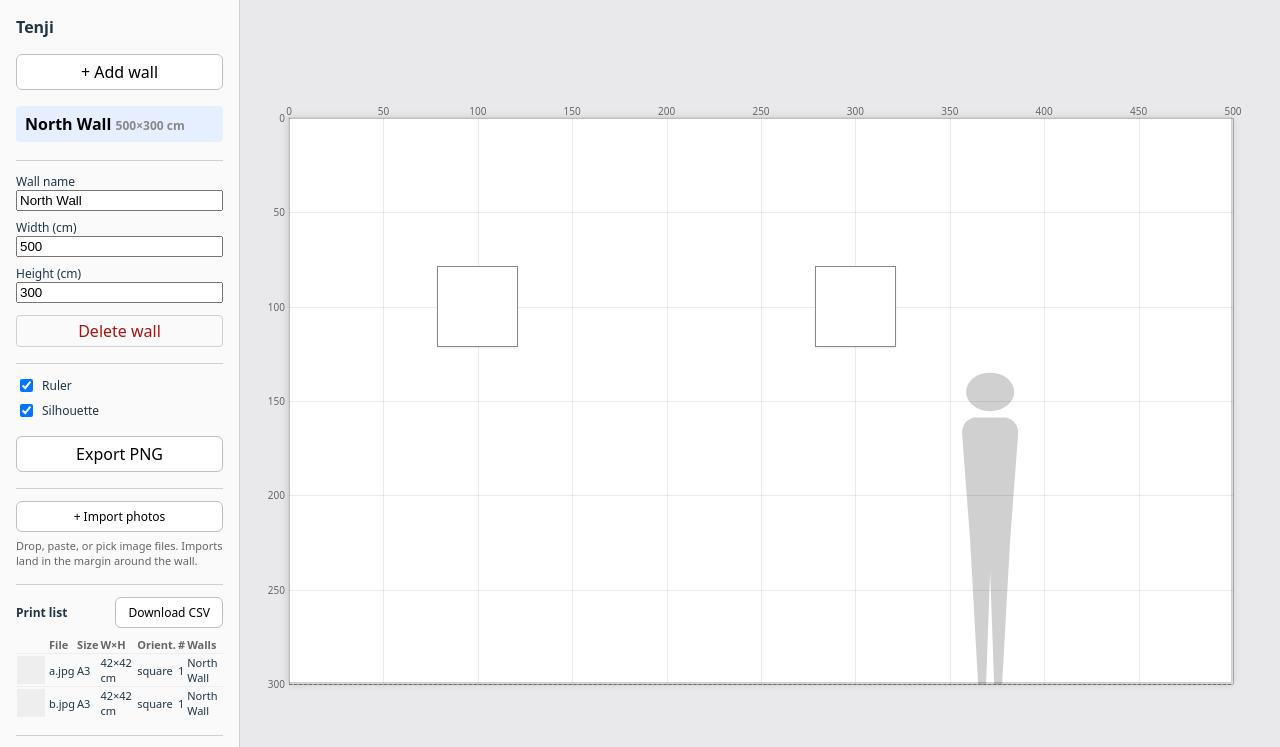
Test: App › shift-clicks add to selection and show the group inspector with no handles
This screenshot has width=1280, height=747.
// Click first → exactly one selected → full inspector + handles.
Press the mouse on the element with test id "placement-pl-a" at (478, 307), box [438, 267, 517, 346]
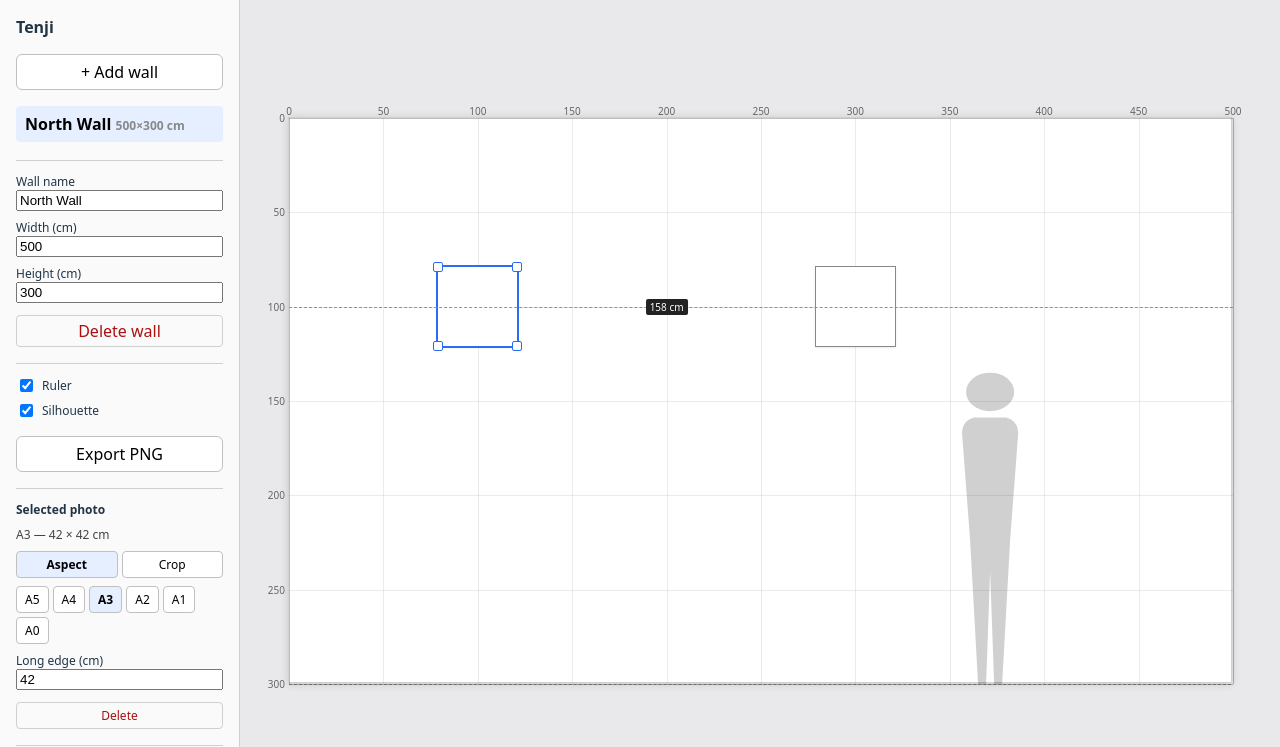
Result: the element with test id "placement-inspector" is shown at [16, 488, 223, 729]
// Shift-click second → 2 selected → group inspector, no handles on either.
Press the mouse on the element with test id "placement-pl-b" at (855, 307), box [816, 267, 895, 346]
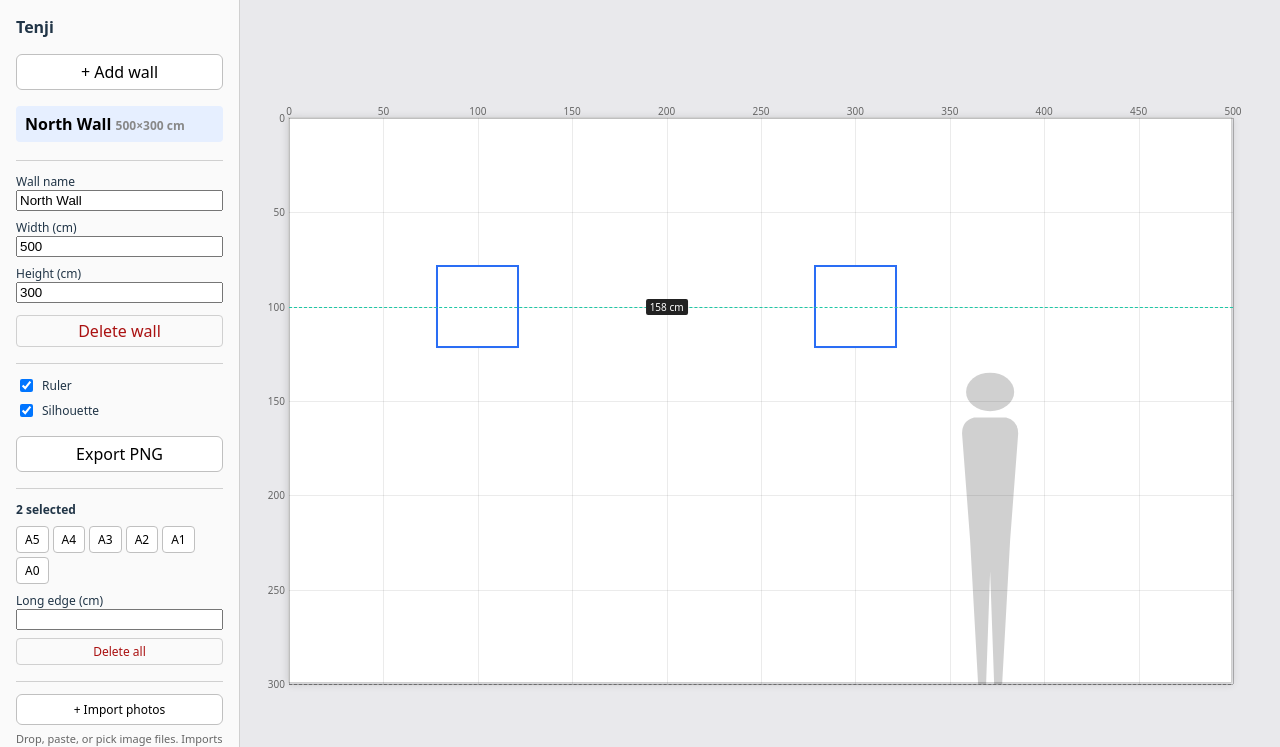
Result: the element with test id "group-inspector" shows "2 selected" at [16, 488, 223, 665]
Result: the element with test id "placement-inspector" is gone
